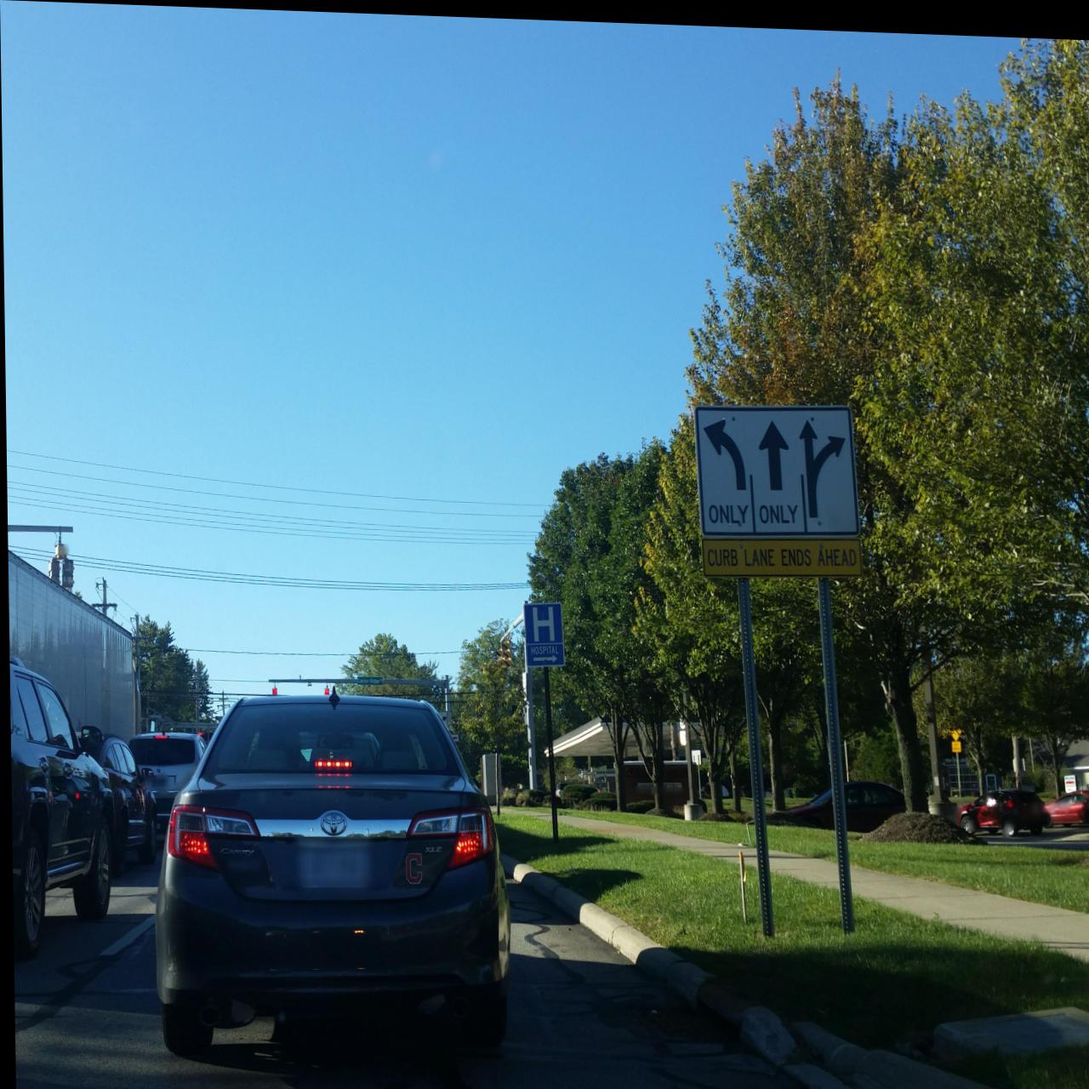bus: (7, 523, 142, 750)
car: (146, 673, 514, 1066)
